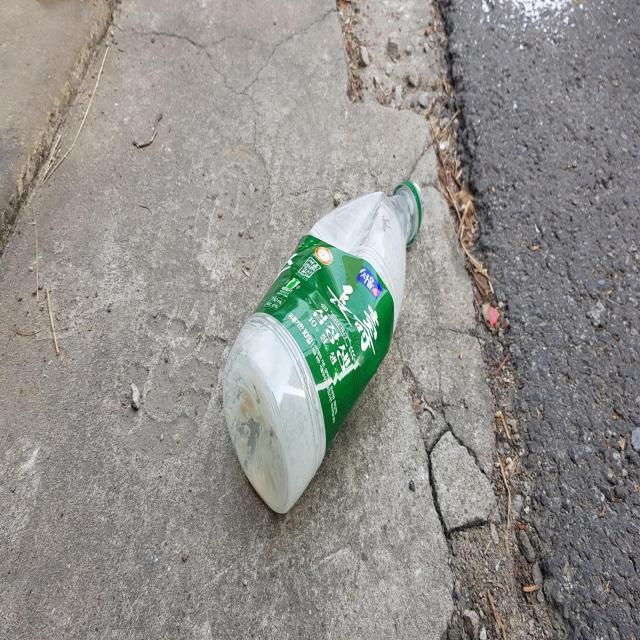plastic: (223, 180, 422, 512)
